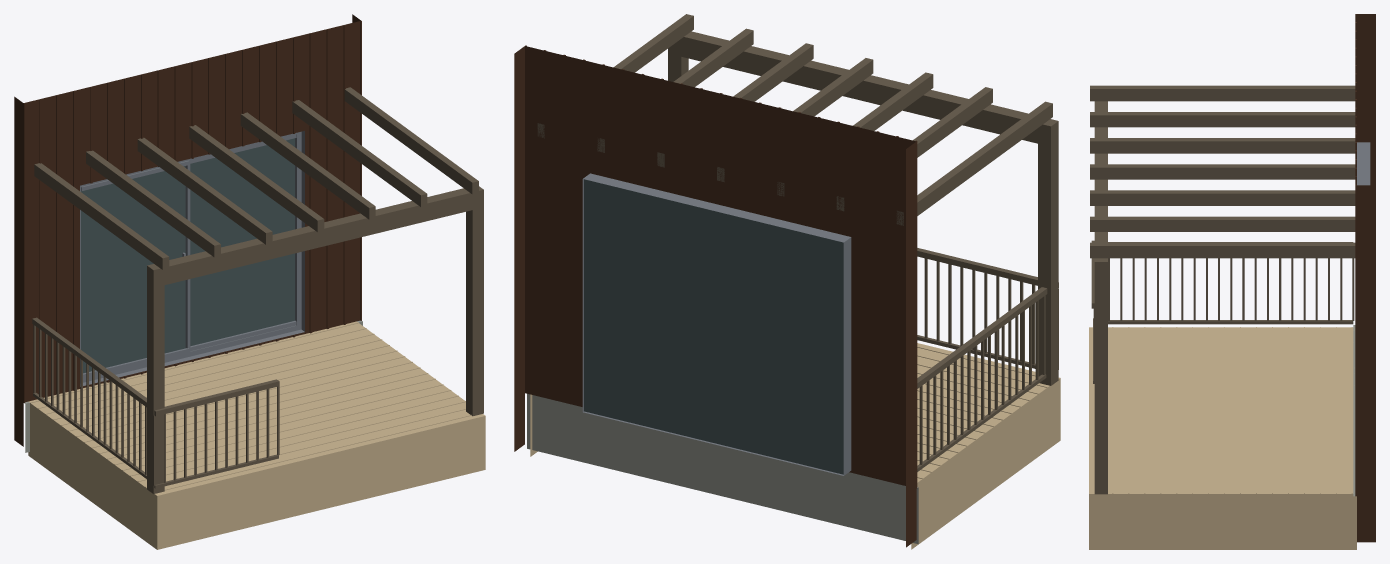
Rendered from base-stair3_close.fbx.
3 renders of one model, left to right at view 1: azimuth 30°, elevation 25°; view 2: azimuth 150°, elevation 25°; view 3: azimuth 270°, elevation 25°, orthographic. The views are drawn at different scales.
Parts seen in each view (by area): view 1: a2000/0/base-stair_close; view 2: a2000/0/base-stair_close; view 3: a2000/0/base-stair_close.
Boxes of the visible parts, <box> form: a2000/0/base-stair_close: <box>14,14,485,549</box>; a2000/0/base-stair_close: <box>514,14,1060,549</box>; a2000/0/base-stair_close: <box>1089,14,1375,549</box>.
Bounding box in the file's own units: 3.6 × 3.6 × 2.55.
